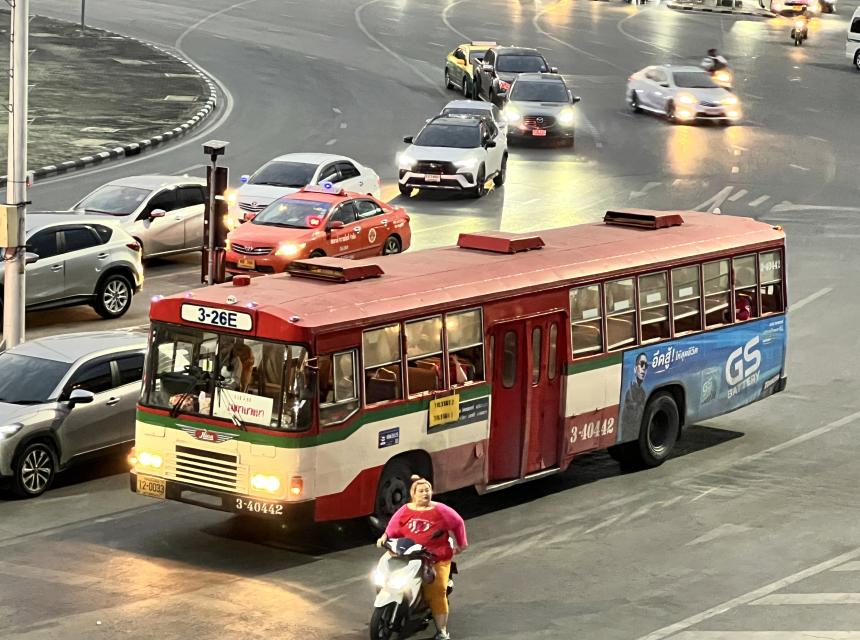BMTA-bus: (129, 210, 790, 552)
Bus Line Number: (187, 302, 241, 330)
Bus Side Number: (563, 417, 617, 447), (232, 496, 286, 516)
Destination Sign: (212, 390, 273, 428)
